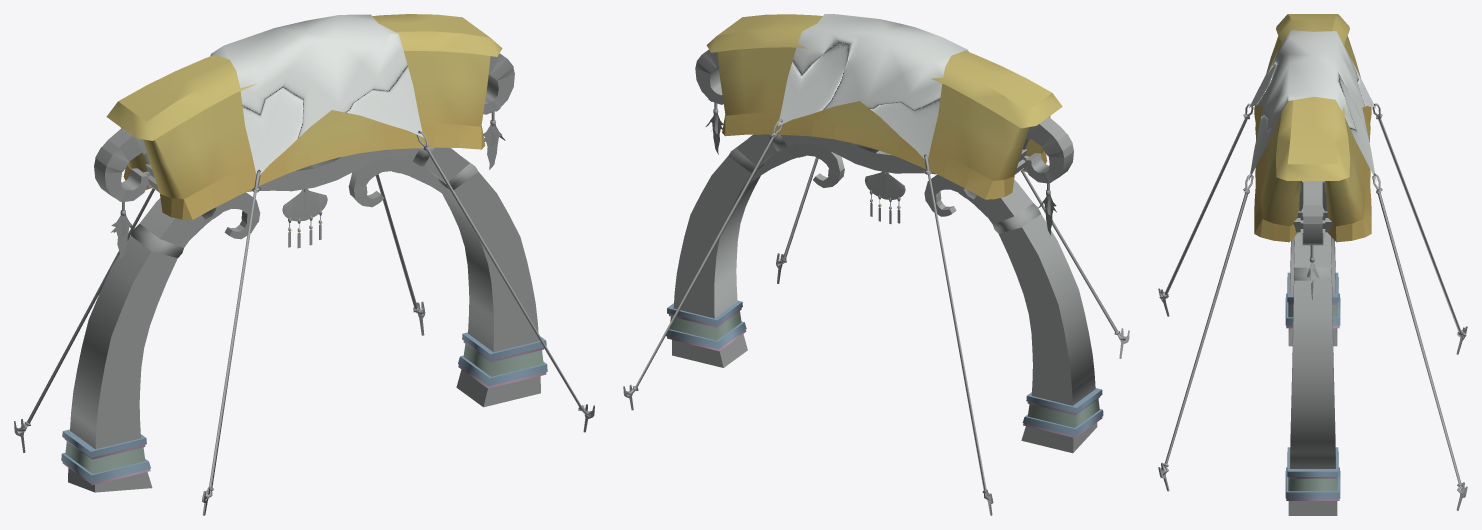
3 views of the same model, side by side, from view 1: azimuth 30°, elevation 25°; view 2: azimuth 150°, elevation 25°; view 3: azimuth 270°, elevation 25° (orthographic). The views are drawn at different scales.
Visible parts, largest first — view 1: G:\FFXIV-MapTools\exports\y6f2\bg\ex5\02_ykt_y6\fld\y6f2\bgp (×9); view 2: G:\FFXIV-MapTools\exports\y6f2\bg\ex5\02_ykt_y6\fld\y6f2\bgp (×9); view 3: G:\FFXIV-MapTools\exports\y6f2\bg\ex5\02_ykt_y6\fld\y6f2\bgp (×8).
Part boxes in pixels (bbox=[...]): G:\FFXIV-MapTools\exports\y6f2\bg\ex5\02_ykt_y6\fld\y6f2\bgp (×9): bbox=[18, 14, 590, 499]; G:\FFXIV-MapTools\exports\y6f2\bg\ex5\02_ykt_y6\fld\y6f2\bgp (×9): bbox=[627, 14, 1125, 501]; G:\FFXIV-MapTools\exports\y6f2\bg\ex5\02_ykt_y6\fld\y6f2\bgp (×8): bbox=[1158, 14, 1467, 515].
Size of the model in its own units: 13.52 by 12.21 by 8.89.
